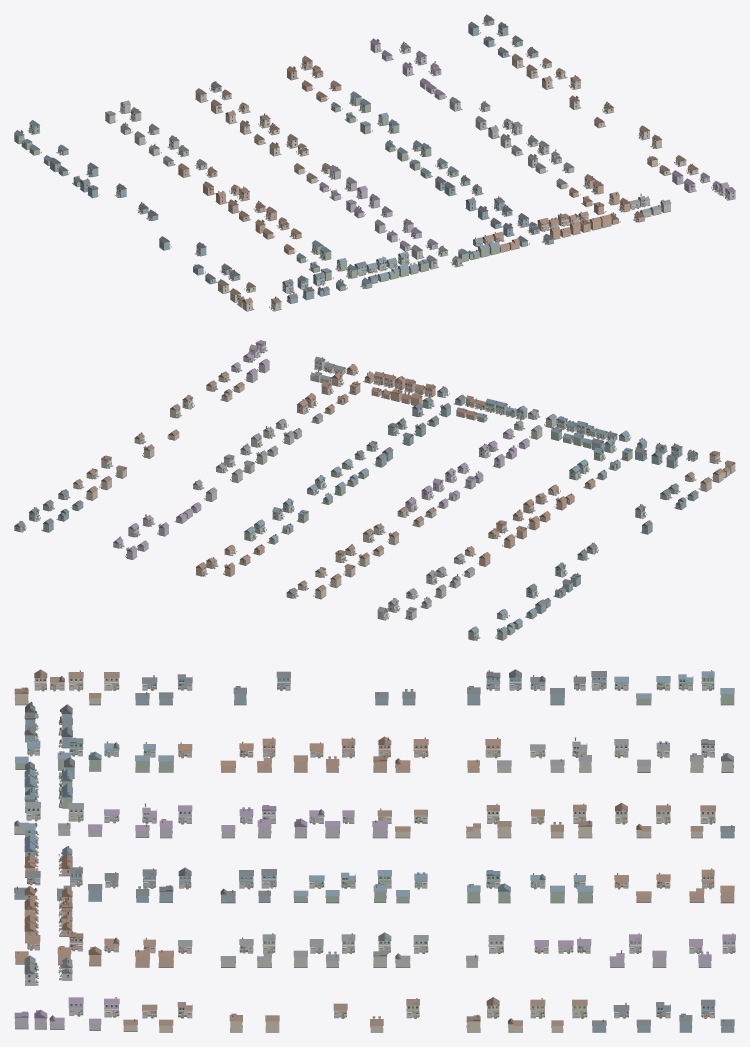
The model's file is crown-fields.glb.
3 renders of one model, top to bottom at view 1: azimuth 30°, elevation 25°; view 2: azimuth 150°, elevation 25°; view 3: azimuth 270°, elevation 25°, orthographic. The views are drawn at different scales.
Size of the model in its own units: 373 by 10.25 by 330.
